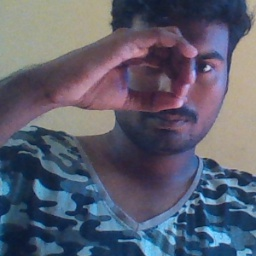O: (52, 22, 199, 114)
